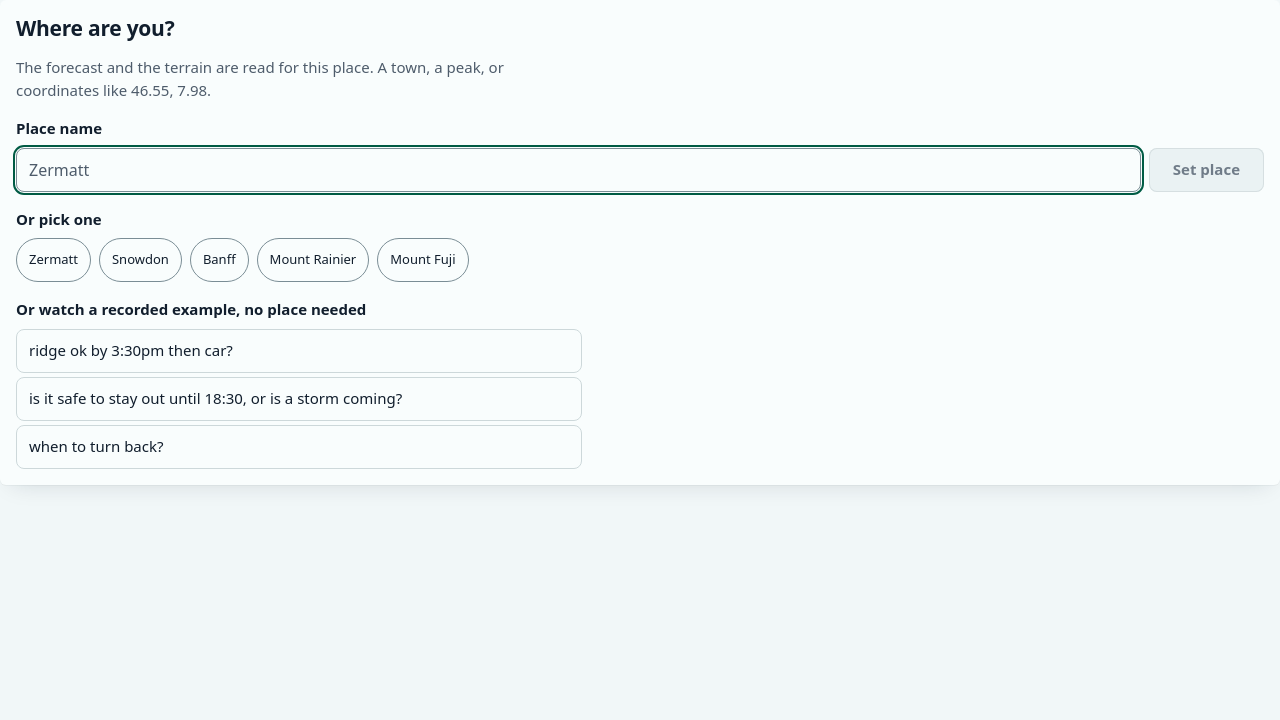
Test: PlacePicker › says what to try when the place is not found, and stays open
This screenshot has width=1280, height=720.
Type "Xyzzy" into the field labelled "Place name". click: {"x": 578, "y": 170}
box: left=16, top=148, right=1141, bottom=192
Then press Enter
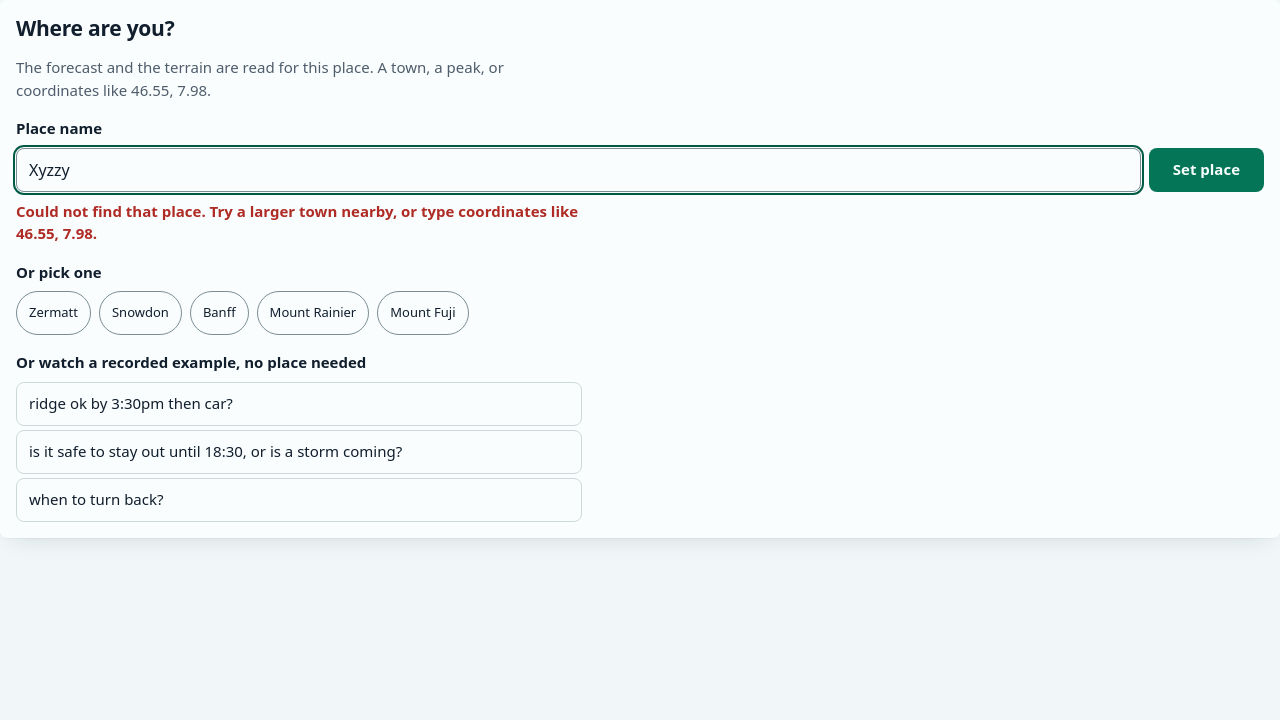
Result: the message shows "Try a larger town nearby, or type coordinates" at left=16, top=201, right=578, bottom=243
